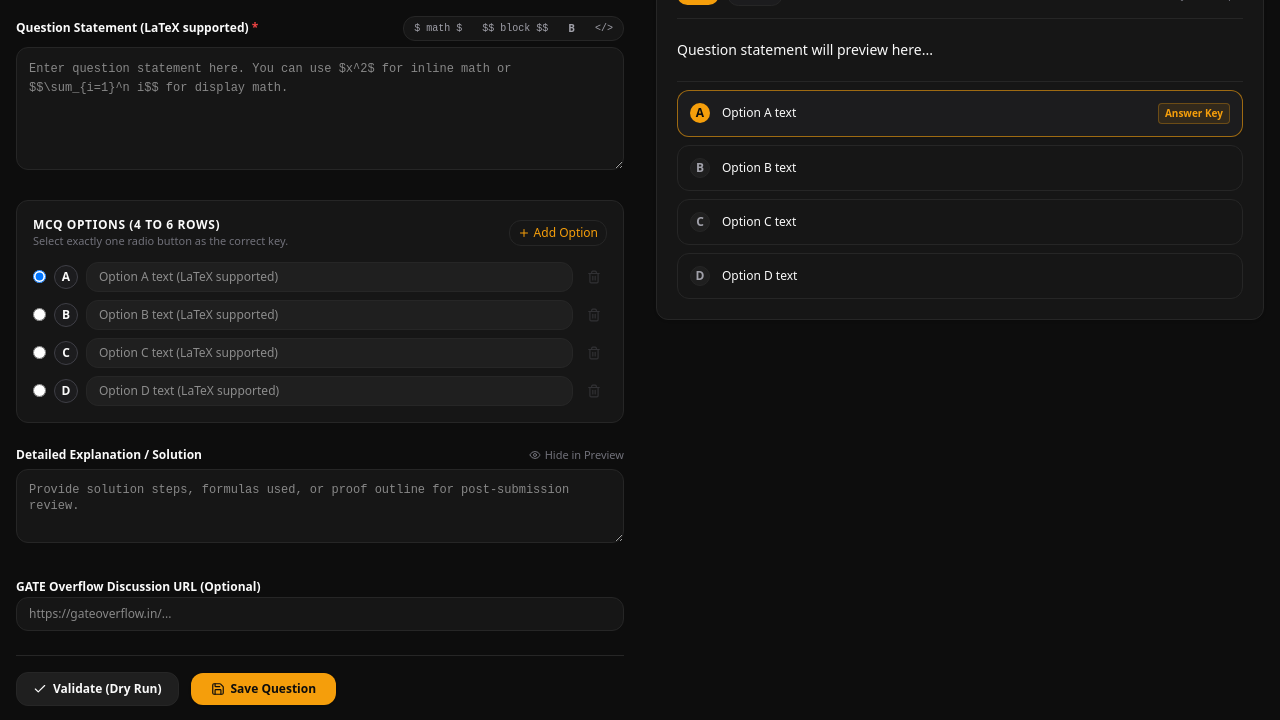
Scenario: AuthoringPage › client V-Q blocks submit with inline errors on invalid form
The width and height of the screenshot is (1280, 720).
(page scrolled)
# Submit with empty fields
Click the button "Save Question".
click(263, 689)  # box [190,673,336,705]
(page scrolled)
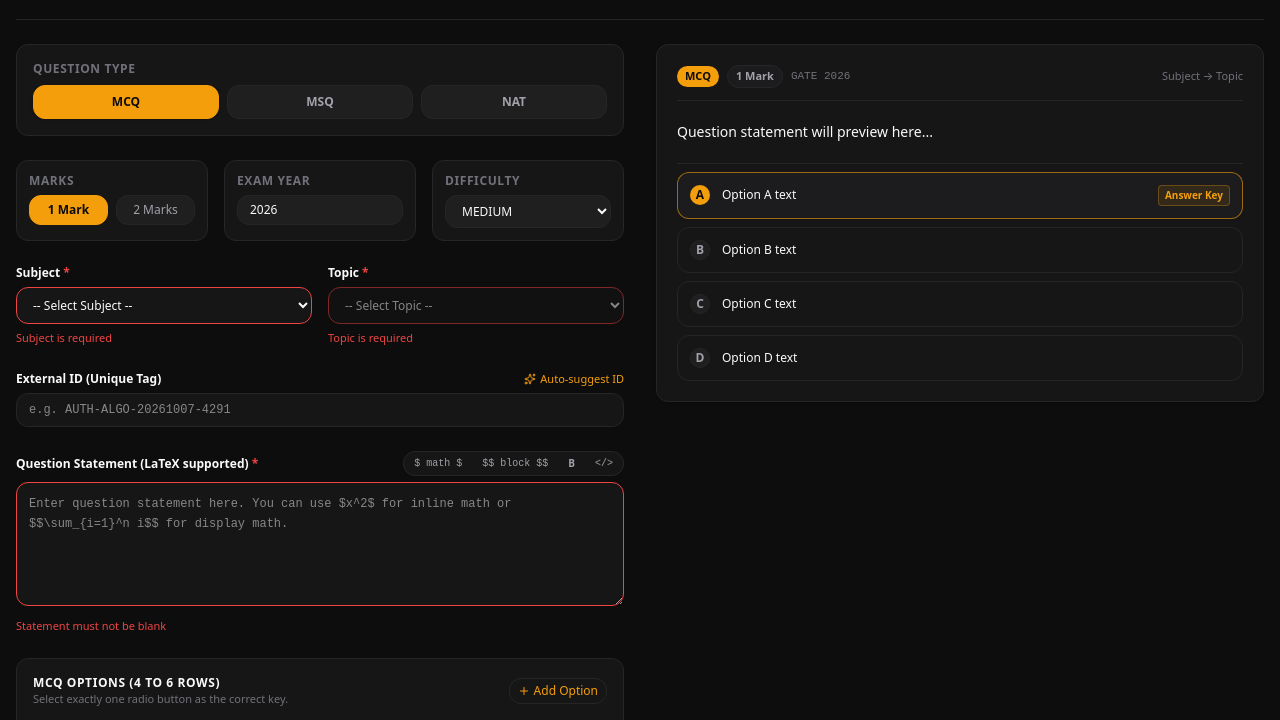
Expected: the text "Statement must not be blank" is shown, [16,618,166,632]
Expected: the text "Subject is required" is shown, [16,330,112,345]
Expected: the text "Topic is required" is shown, [328,330,413,345]
